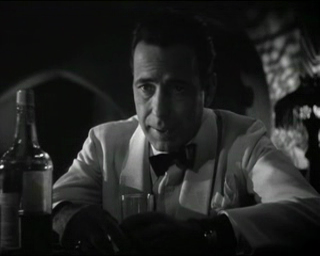face: (132, 39, 203, 151)
mcu: (1, 1, 320, 256)
person: (52, 7, 320, 256)
